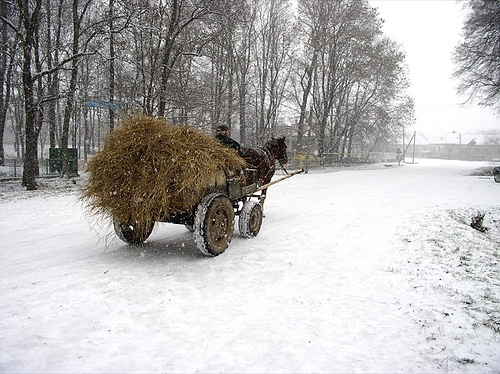horse: (238, 133, 291, 218)
